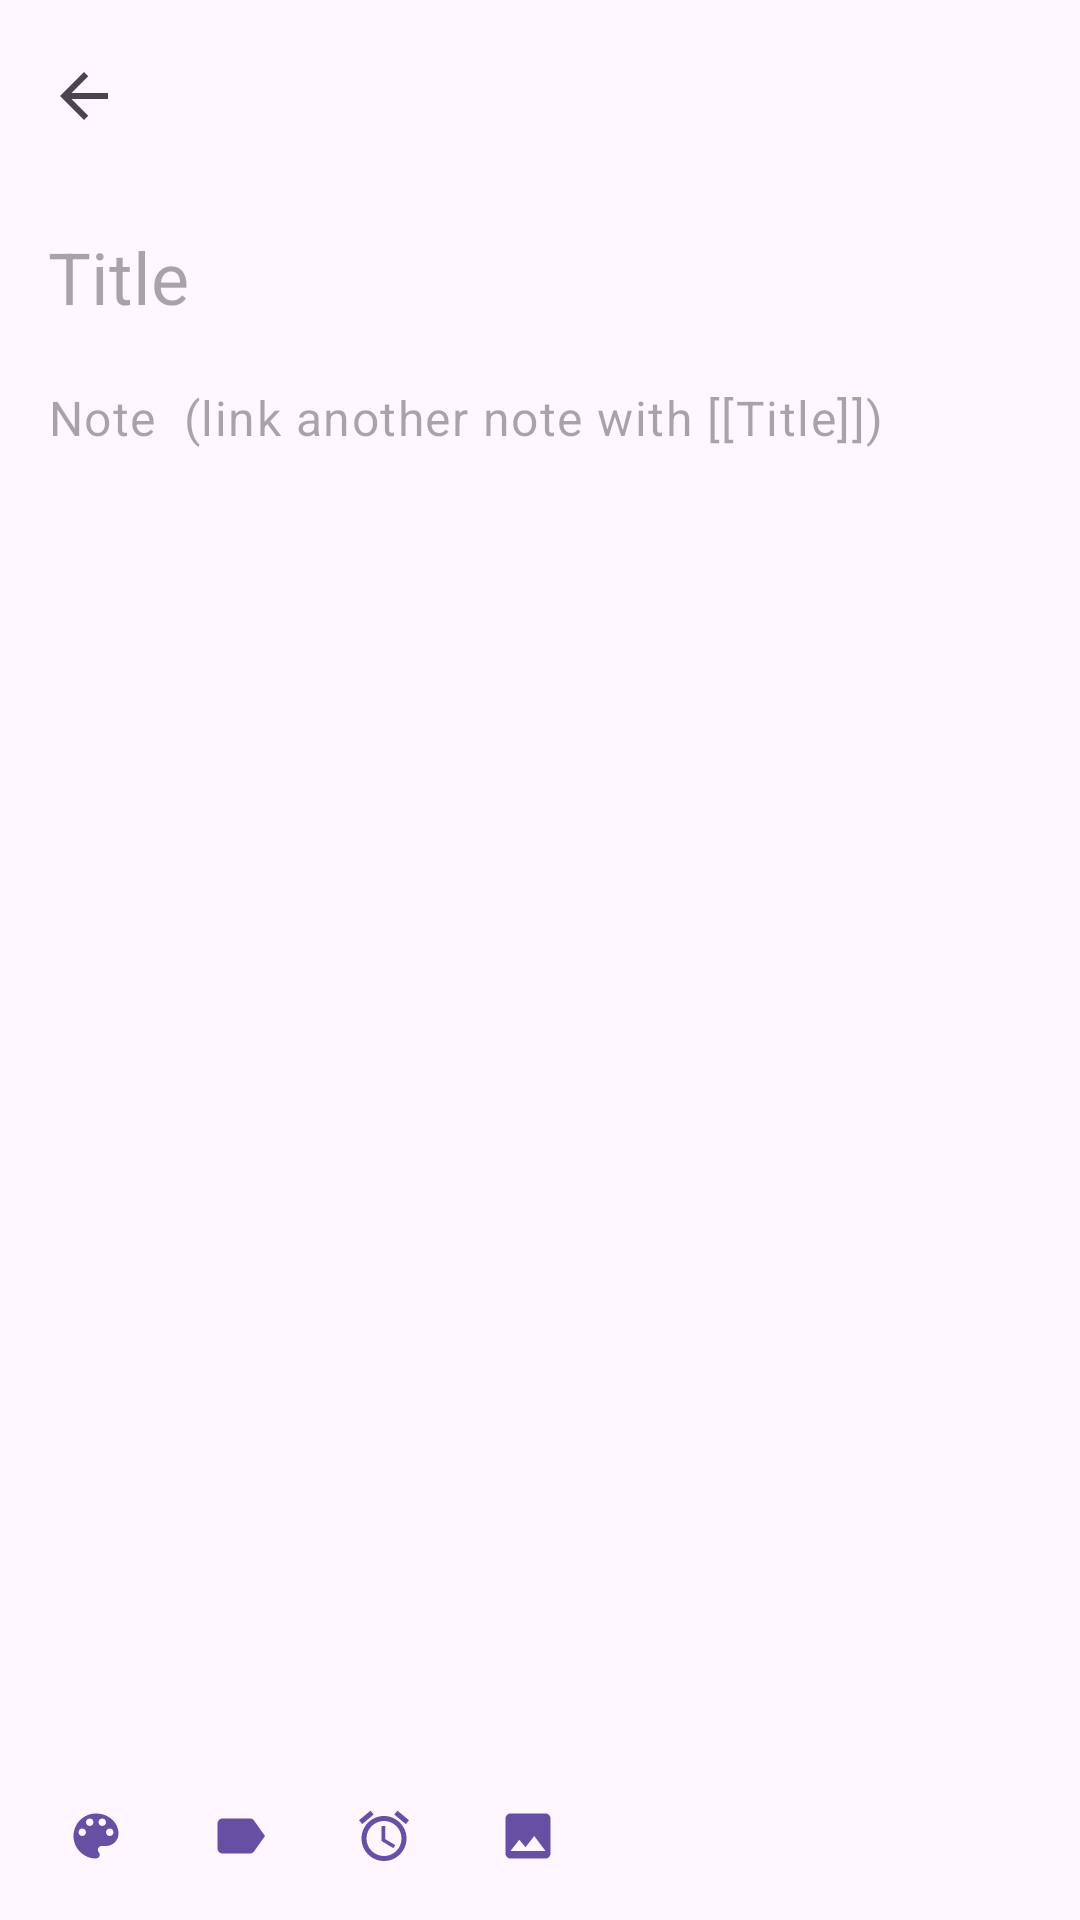

Icons on this 1080 × 1920 Android screen, each with the point to tap as (x=x, y=y):
Add image: (x=528, y=1836)
Add tag: (x=241, y=1836)
Color: (x=96, y=1836)
Set reminder: (x=384, y=1836)
